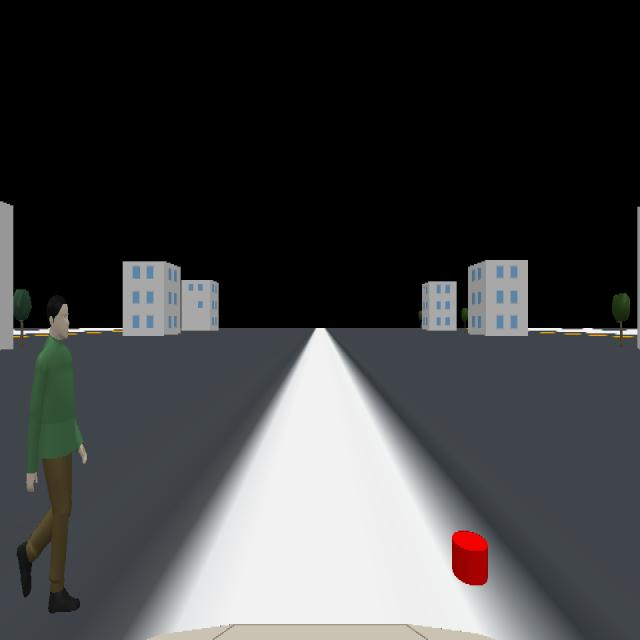human: (16, 294, 87, 614)
